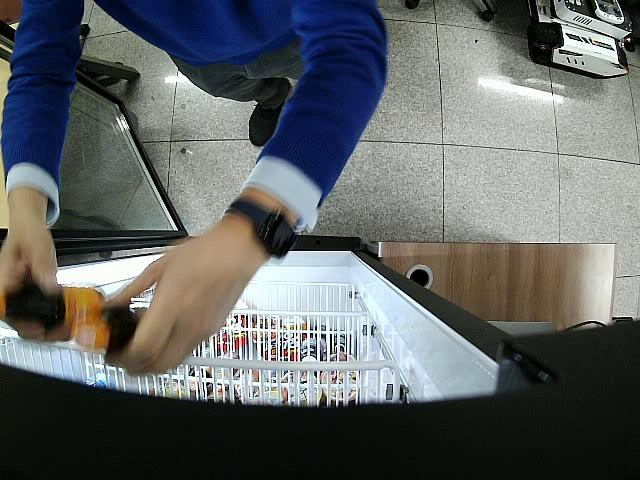00_hand: (107, 237, 261, 378), (3, 209, 59, 340)
17_vita500: (4, 288, 106, 331), (73, 306, 141, 357)
